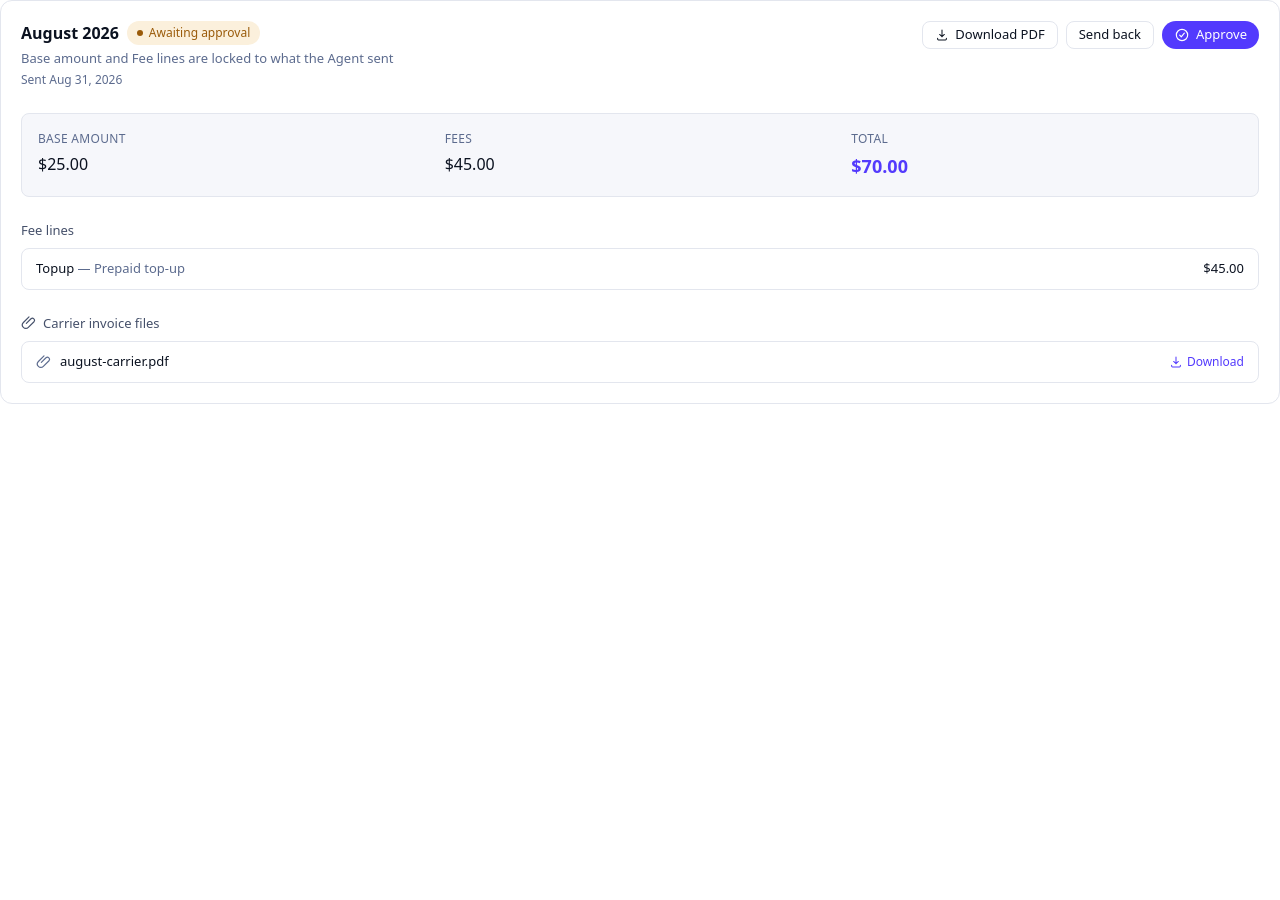
ClientInvoiceDetailView › hides Approve while the send-back form is open and brings it back on Back
The image size is (1280, 900).
Click the button "Send back".
click(1110, 35)  # box [1066,21,1154,49]
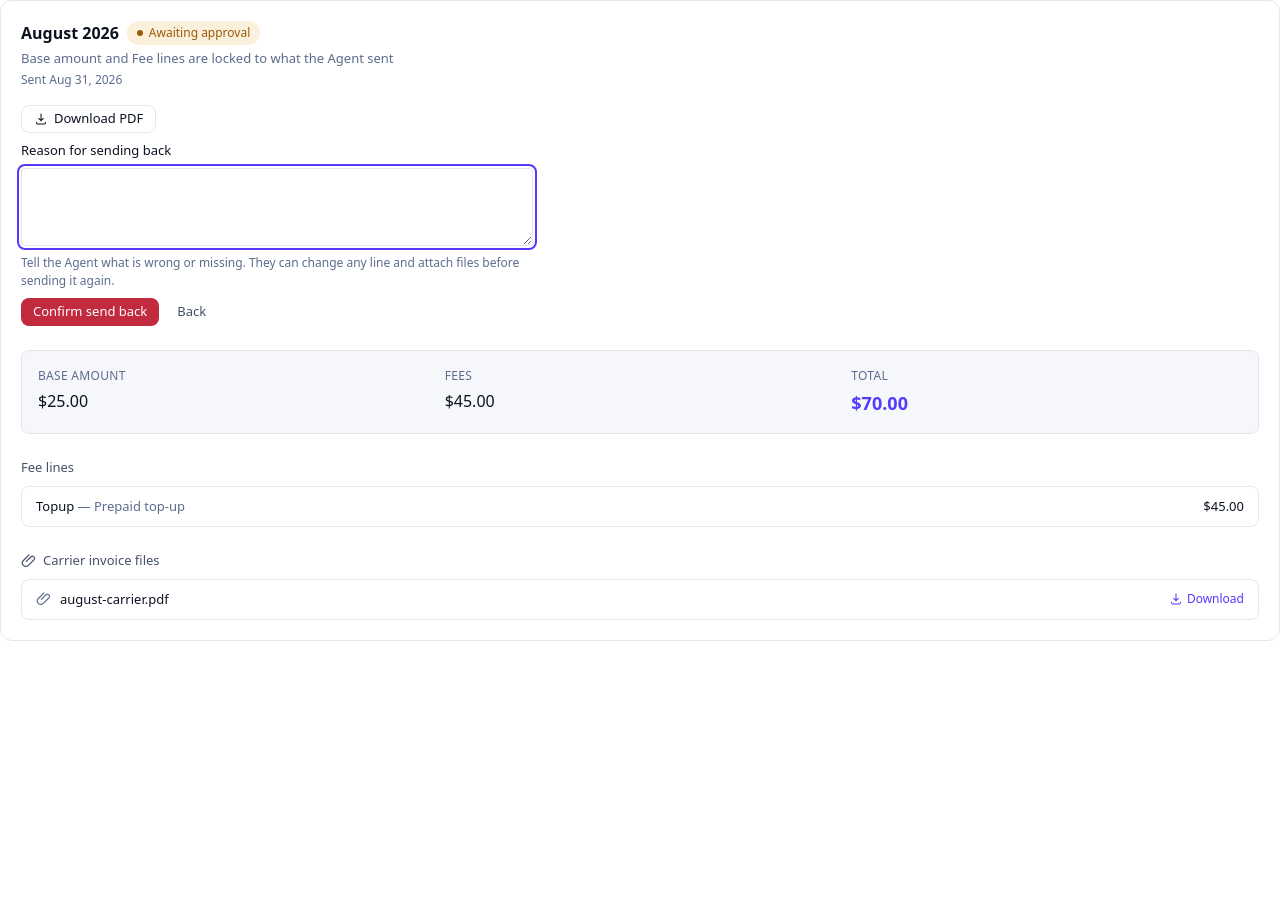
Result: the button "Approve" is gone
Click the button "Back".
click(192, 312)  # box [165,298,218,326]
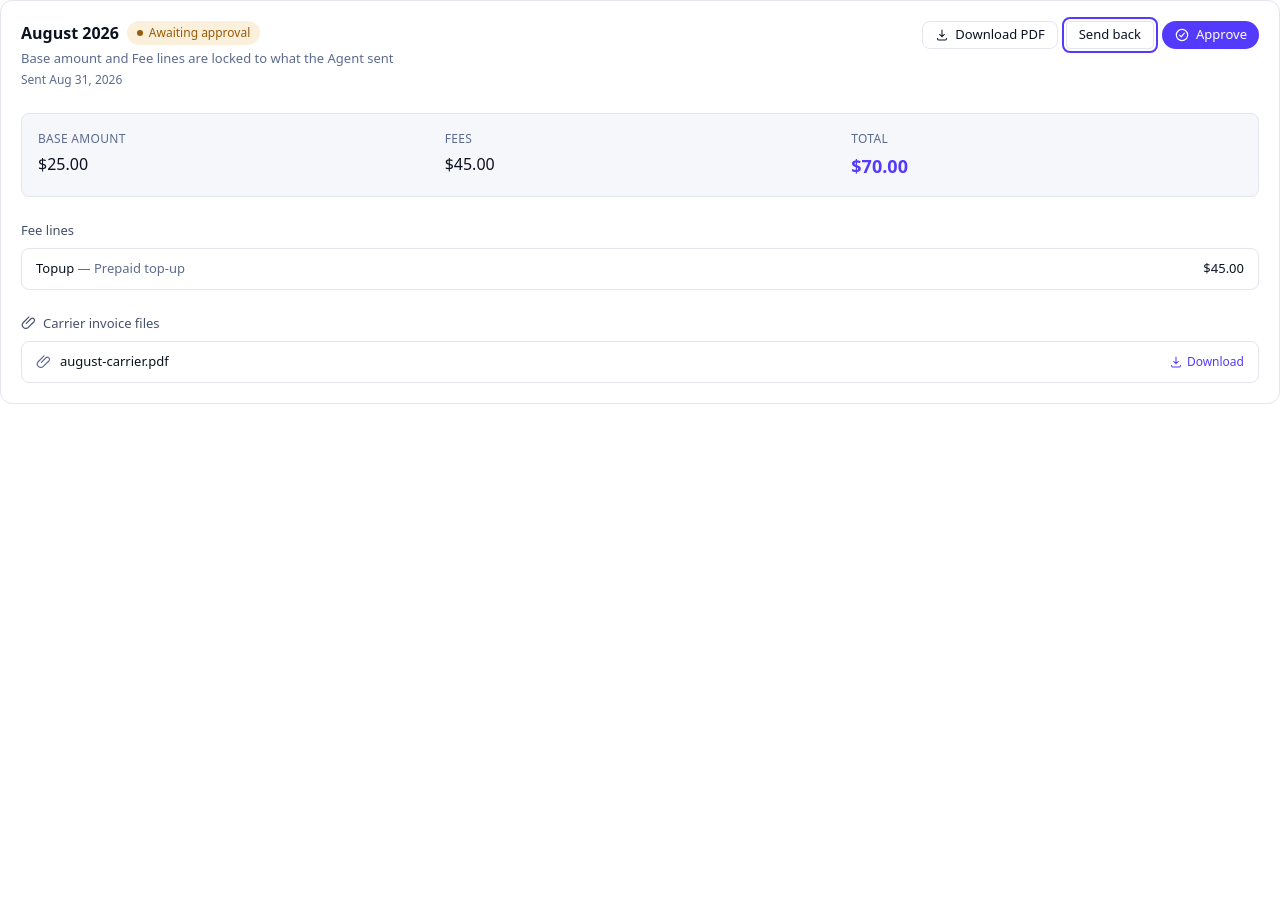
Result: the button "Approve" is shown at [1162,21,1259,49]
